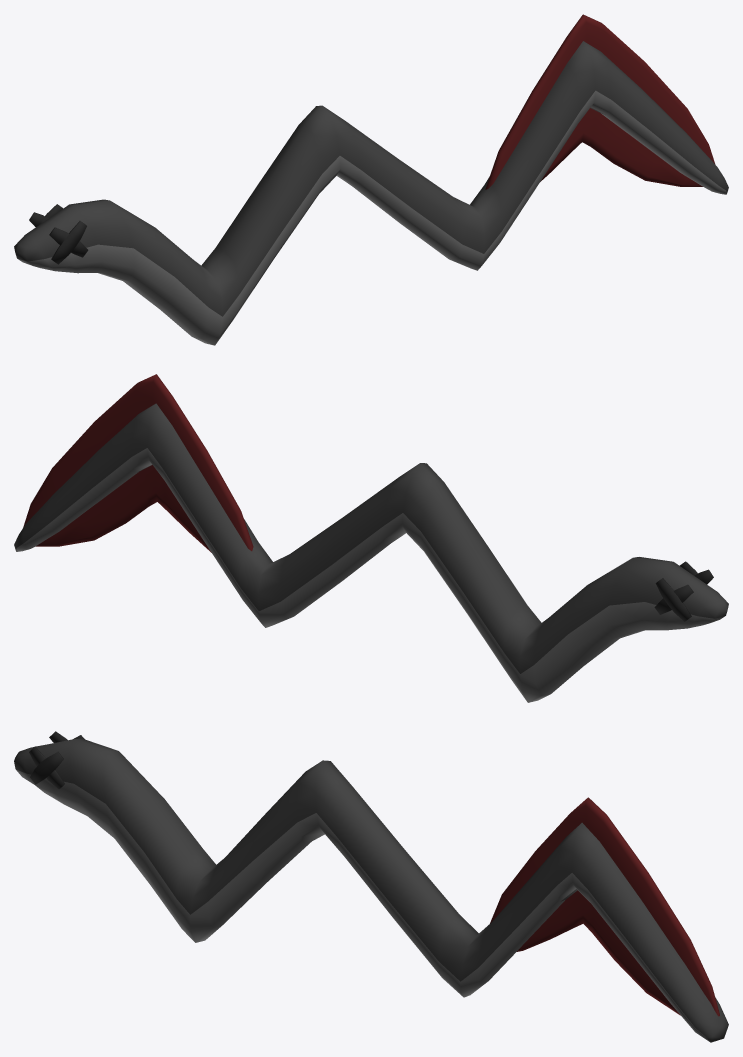
The model's file is dead-eel.glb.
3 renders of one model, top to bottom at view 1: azimuth 30°, elevation 25°; view 2: azimuth 150°, elevation 25°; view 3: azimuth 330°, elevation 25°, orthographic.
Visible parts, largest first — view 1: FoodIngredient_Eel; view 2: FoodIngredient_Eel; view 3: FoodIngredient_Eel.
Boxes of the visible parts, x1,y1,x2,y2 form: FoodIngredient_Eel: (14, 14, 728, 345); FoodIngredient_Eel: (14, 374, 728, 702); FoodIngredient_Eel: (14, 731, 728, 1042).
Bounding box in the file's own units: 2.41 × 0.7614 × 0.1905.
1 material, 1 textured.
